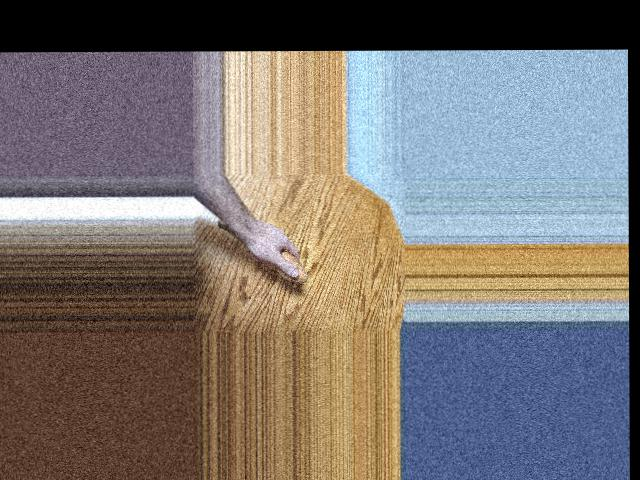sweet_potato: (213, 212, 308, 284)
